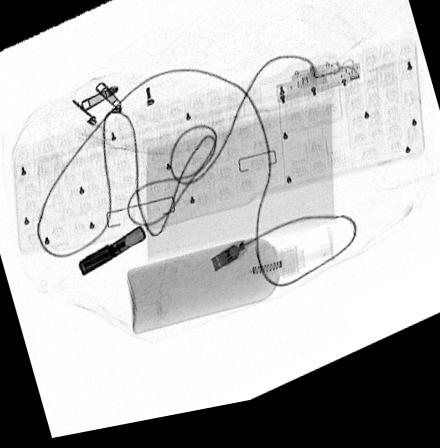Lighter: (77, 230, 147, 281)
